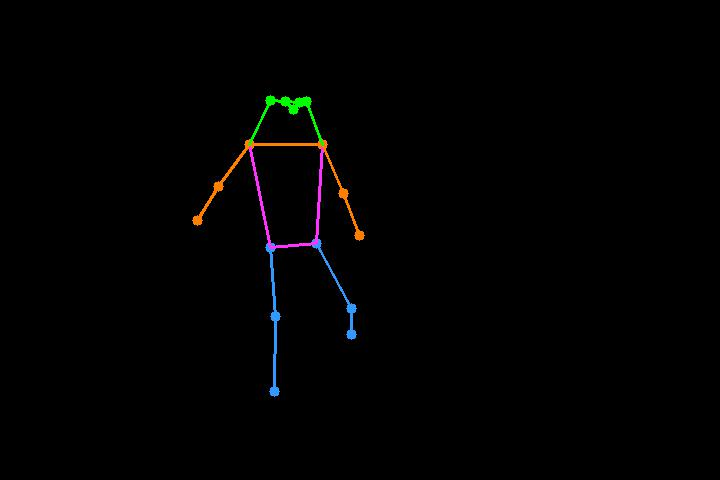normal: (178, 64, 383, 422)
